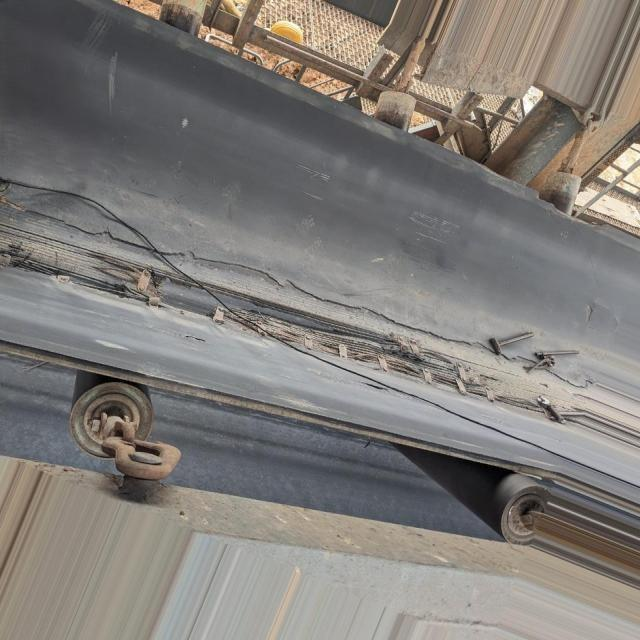Tear: (21, 212, 588, 422)
